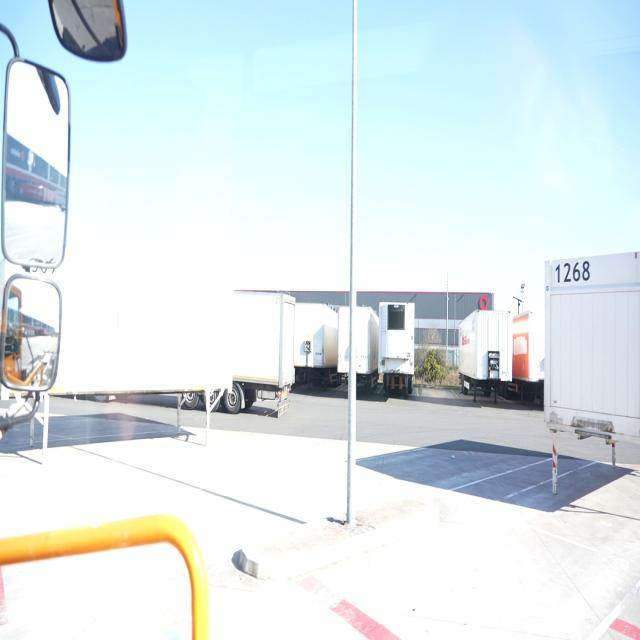Code: (552, 253, 592, 285)
